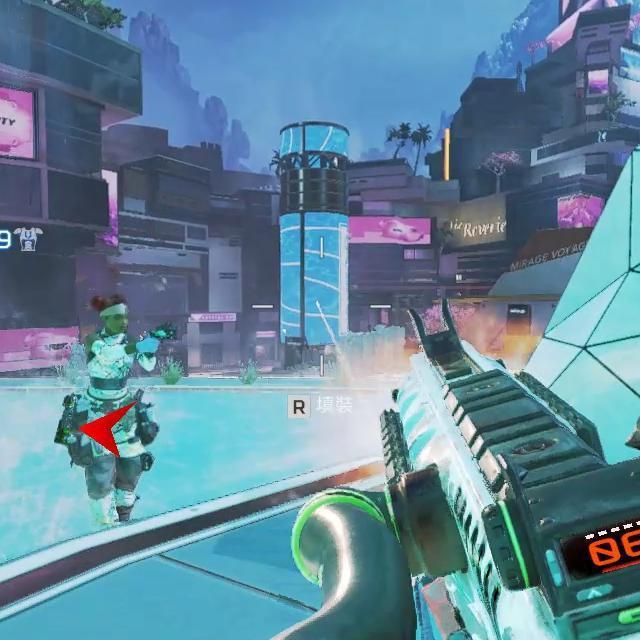avatar: (51, 290, 159, 531)
